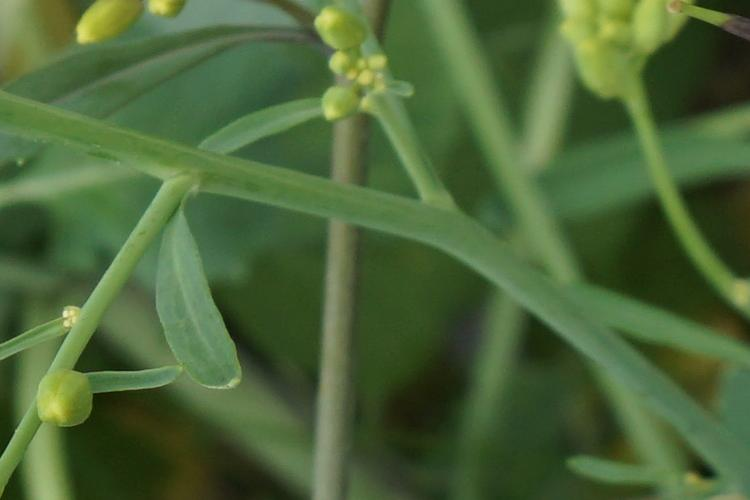bud: (40, 366, 101, 429), (71, 2, 144, 37), (315, 11, 373, 46), (317, 83, 357, 123), (153, 1, 197, 23), (369, 50, 397, 73), (328, 50, 352, 71), (359, 68, 379, 91), (355, 55, 371, 68)
pod: (664, 5, 745, 46)
